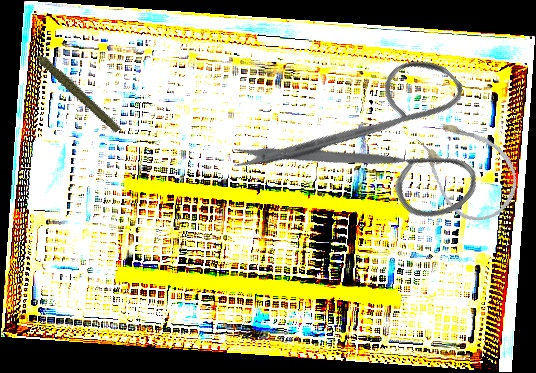Cannula: (401, 101, 533, 235)
Handpiece: (26, 25, 122, 148)
Iris Scissors: (224, 3, 523, 301)
